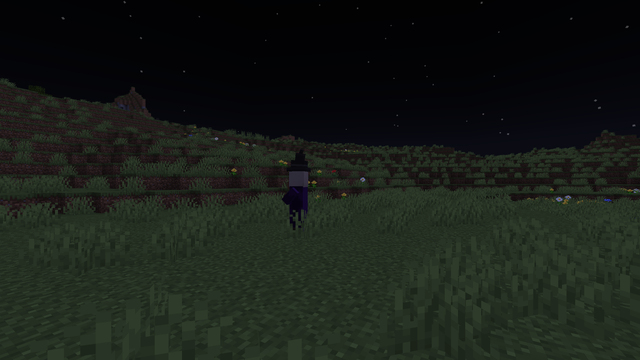sorcieres: (285, 168, 312, 235)
